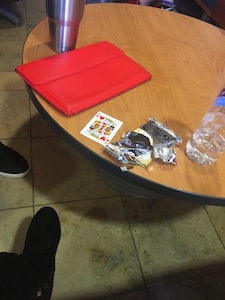KingOfHearts: (79, 109, 126, 149)
